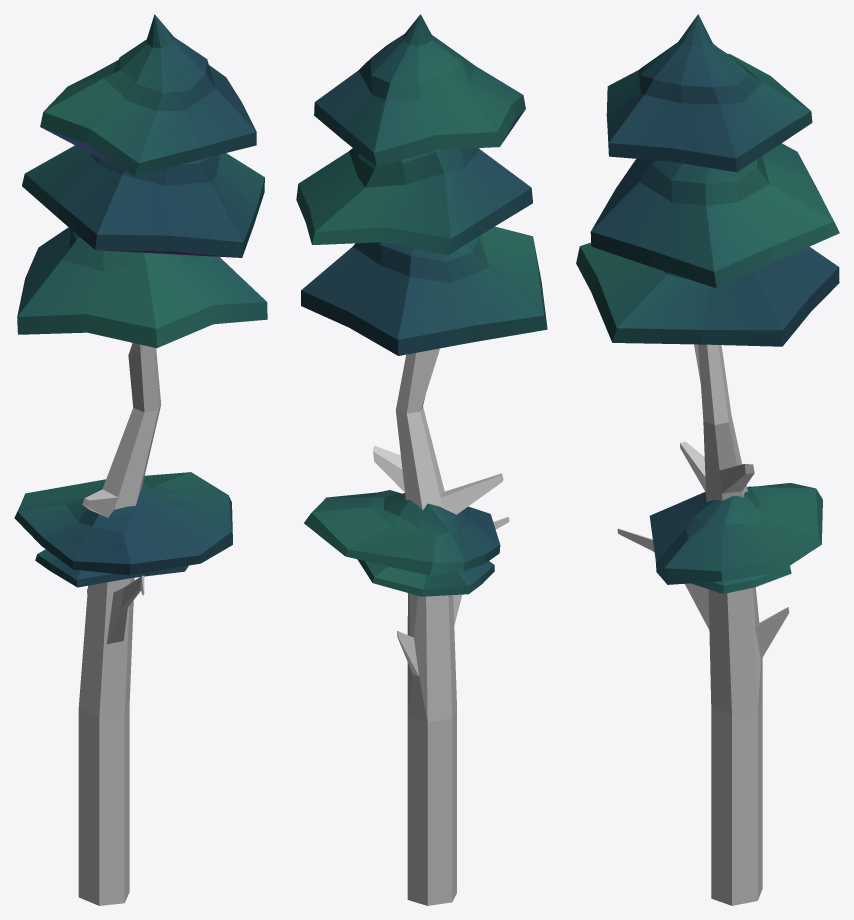
Rendered from Tree_Pine04.fbx.
3 views of the same model, side by side, from view 1: azimuth 30°, elevation 25°; view 2: azimuth 150°, elevation 25°; view 3: azimuth 270°, elevation 25° (orthographic). The views are drawn at different scales.
Parts seen in each view (by area): view 1: TolTreeTrunk3; view 2: TolTreeTrunk3; view 3: TolTreeTrunk3.
Part boxes in pixels (x1=…): TolTreeTrunk3: x1=14, y1=14, x2=267, y2=905; TolTreeTrunk3: x1=296, y1=14, x2=547, y2=905; TolTreeTrunk3: x1=576, y1=14, x2=839, y2=905.
Bounding box in the file's own units: 180 × 606 × 162.
